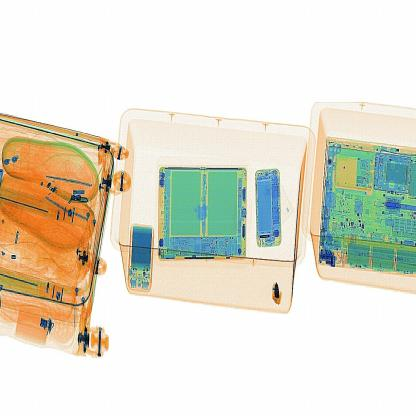wrench: (270, 275, 290, 307)
